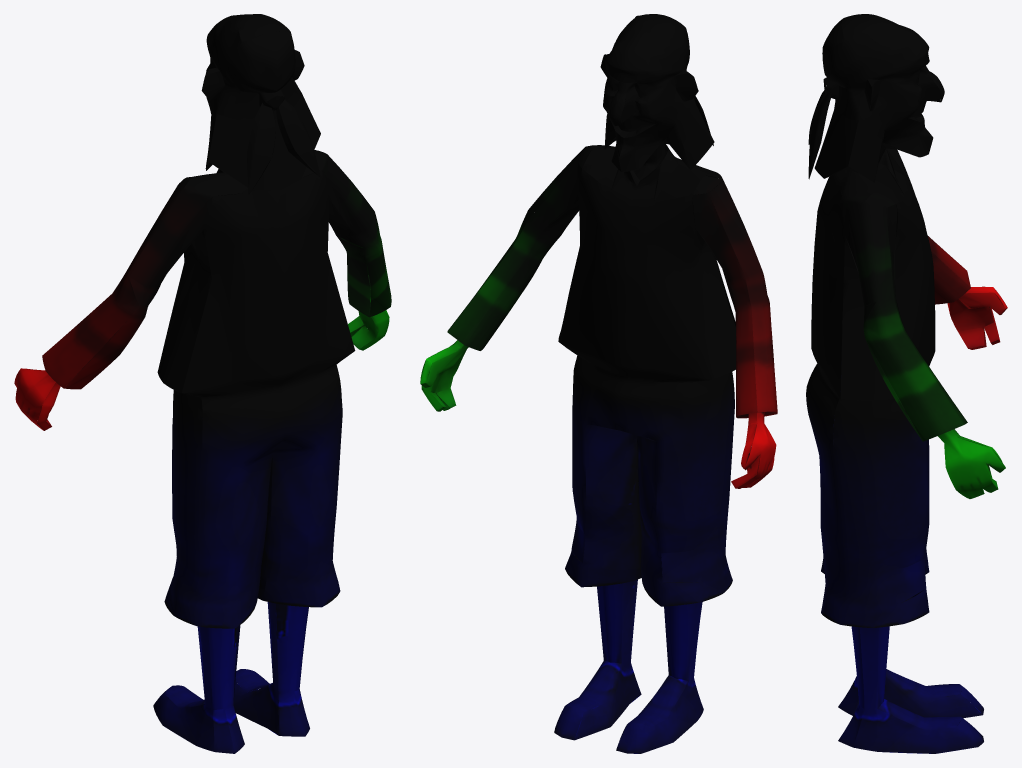
The model's file is benjamin.glb.
The picture shows the model from 3 angles, left to right: view 1: azimuth 30°, elevation 25°; view 2: azimuth 150°, elevation 25°; view 3: azimuth 270°, elevation 25°; orthographic projection. The views are drawn at different scales.
Parts seen in each view (by area): view 1: benjamin; view 2: benjamin; view 3: benjamin.
Boxes of the visible parts, <box> form: benjamin: <box>14,14,391,753</box>; benjamin: <box>420,14,777,753</box>; benjamin: <box>806,14,1007,753</box>.
Size of the model in its own units: 0.9911 by 1.92 by 0.4954.
Materials: 1 (1 with a texture image).
